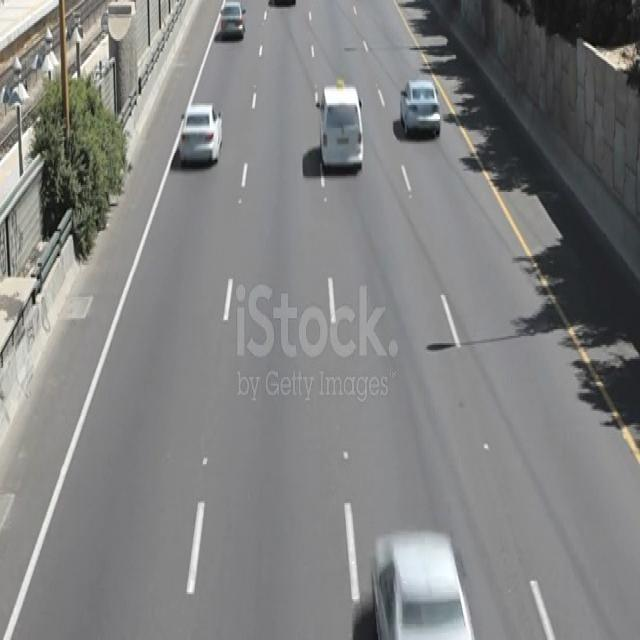Car: (370, 527, 478, 640), (176, 100, 226, 167), (398, 71, 442, 140), (218, 0, 248, 44)
Truck: (316, 77, 366, 176)
